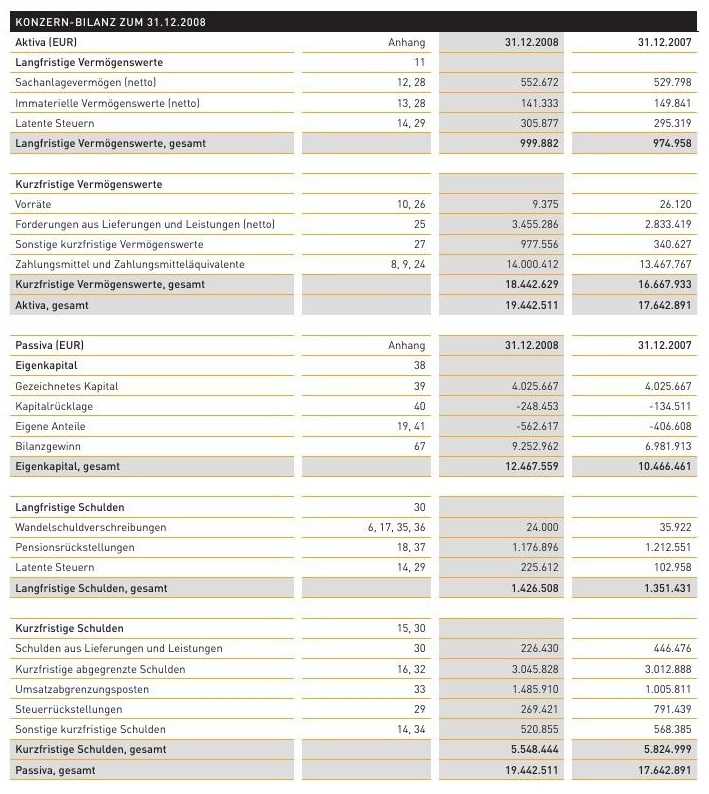table: (0, 0, 709, 794)
